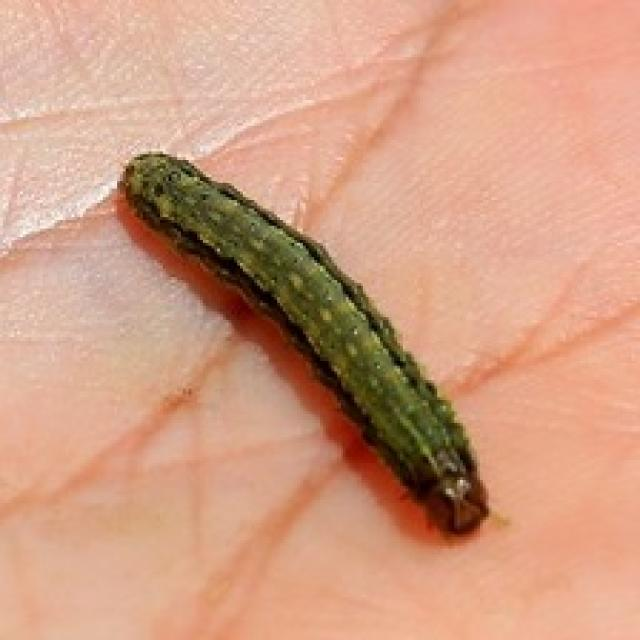worm: (116, 147, 493, 535)
